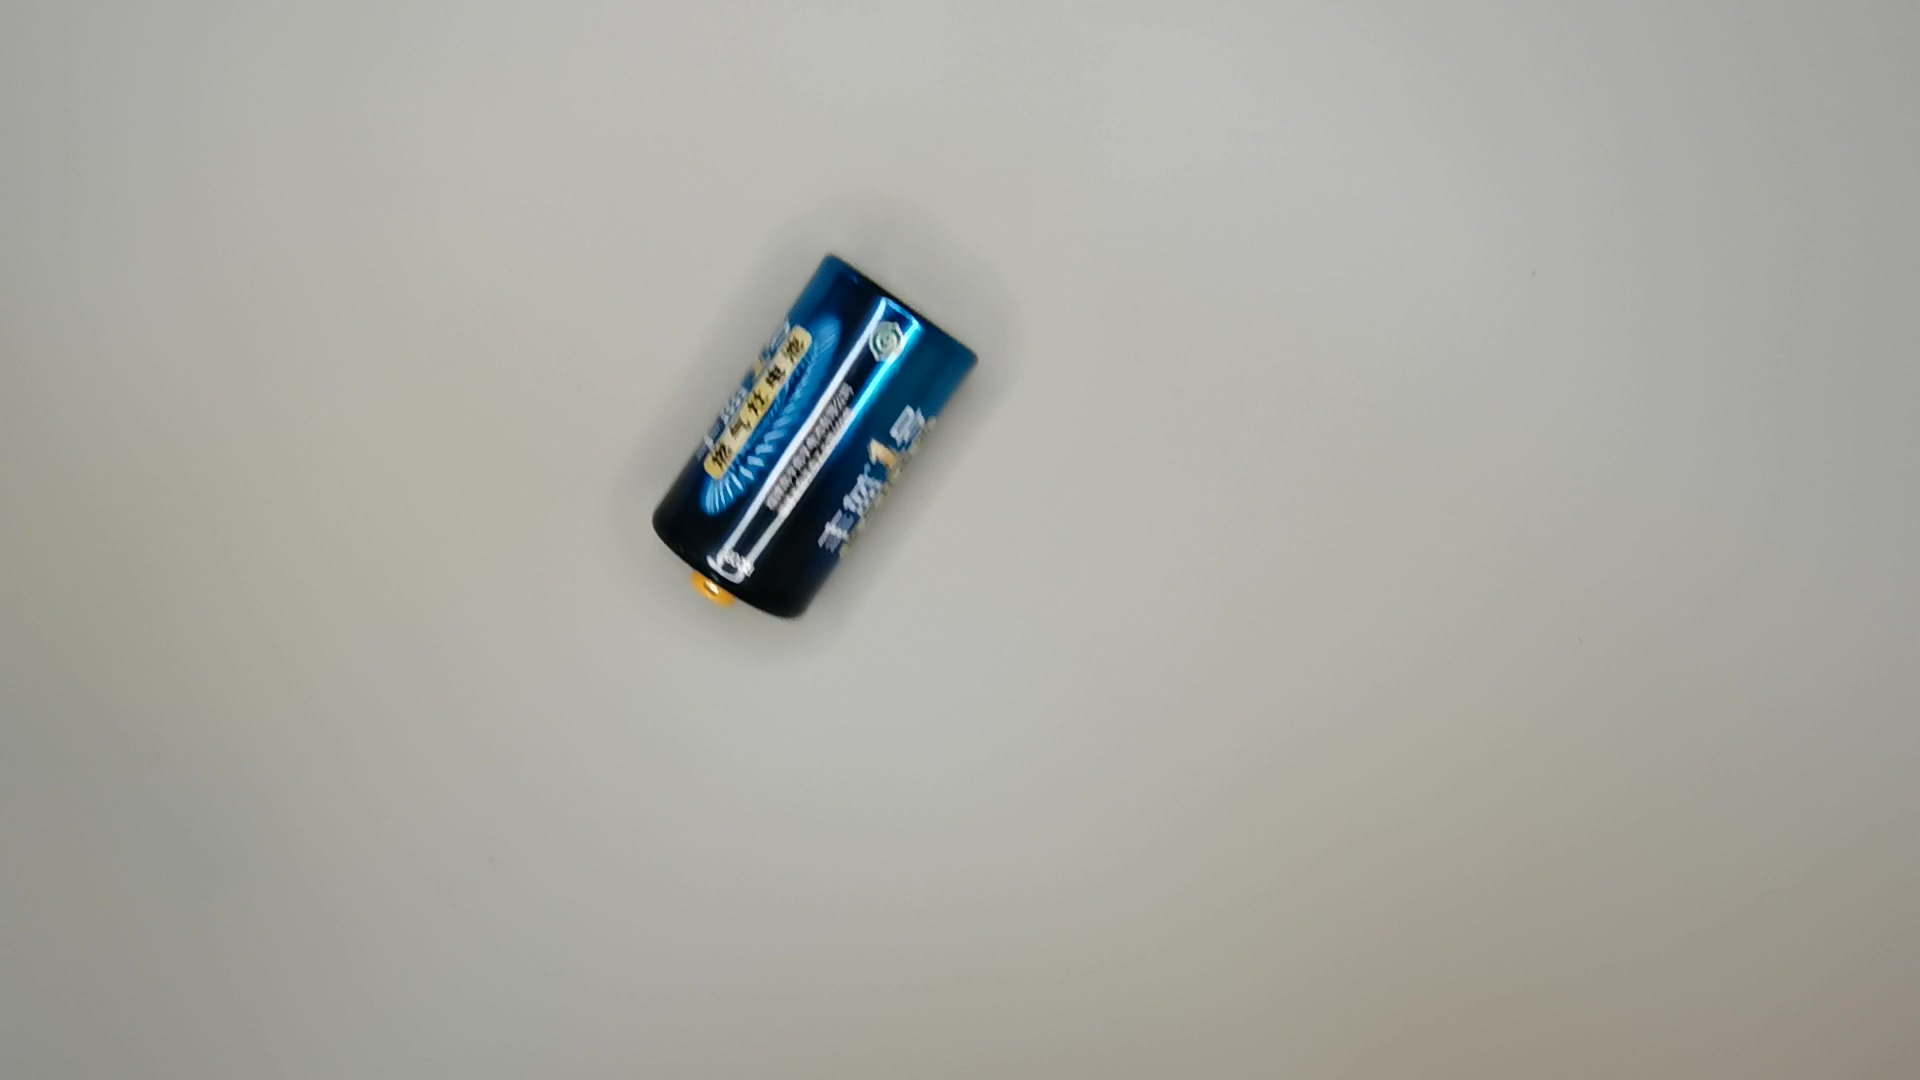battery: (641, 247, 989, 630)
